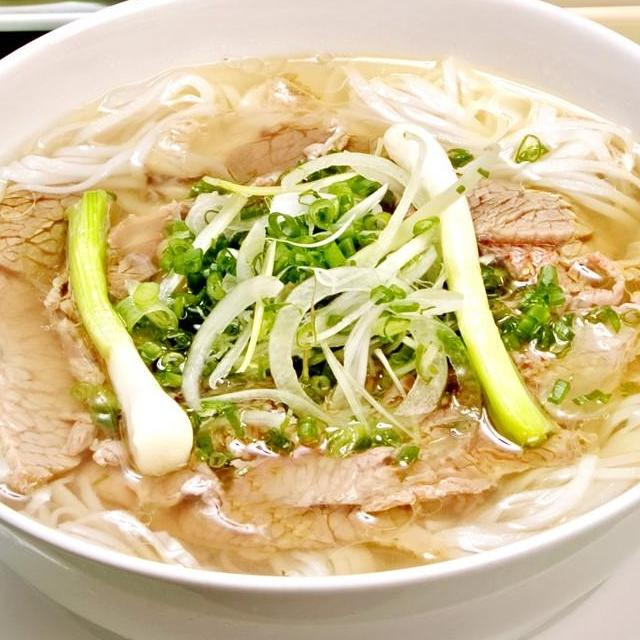banh pho: (328, 56, 640, 209), (431, 390, 640, 565), (0, 55, 237, 186)
pho bo: (0, 12, 640, 640)
thit bo: (195, 363, 607, 517), (117, 439, 513, 567), (0, 178, 114, 498), (447, 178, 640, 347), (214, 120, 394, 184)
